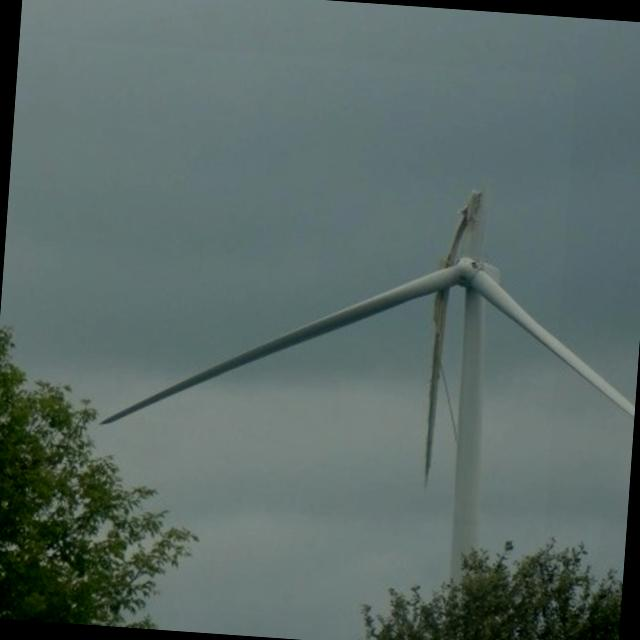crack: (418, 173, 492, 490)
